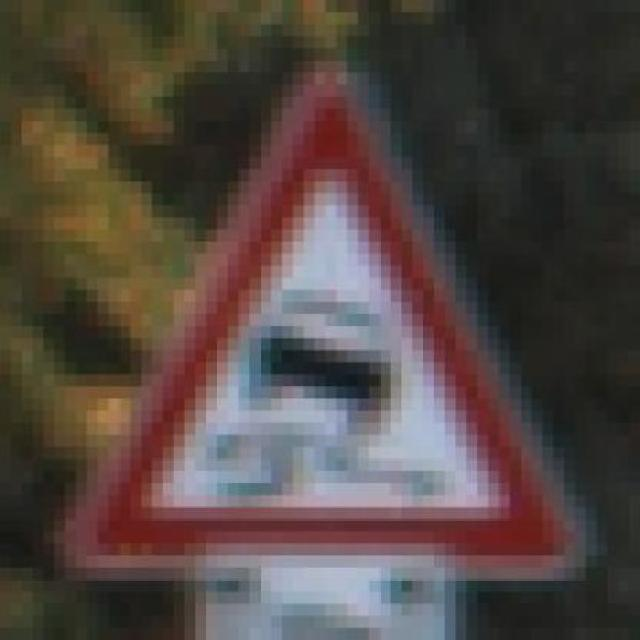Slippery Road Ahead: (54, 60, 608, 592)
